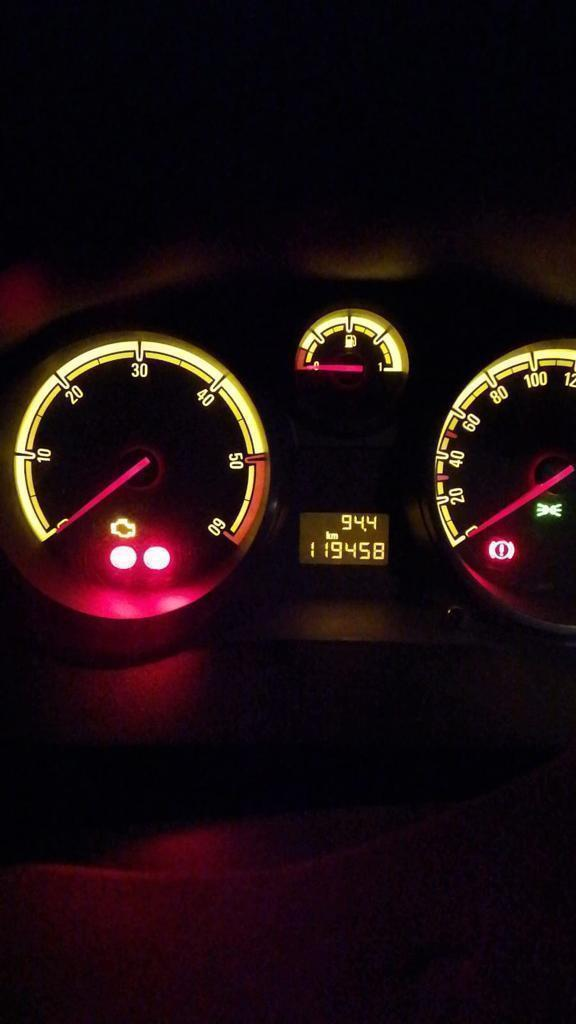,: (363, 526, 367, 532)
1: (309, 540, 315, 559), (323, 540, 329, 559)
4: (344, 542, 357, 559), (366, 514, 377, 530), (353, 514, 364, 530)
5: (358, 540, 371, 559)
8: (372, 540, 385, 560)
9: (329, 540, 343, 559), (340, 513, 352, 530)
X: (330, 532, 338, 539), (325, 529, 330, 539)
odometer: (298, 510, 390, 566)
